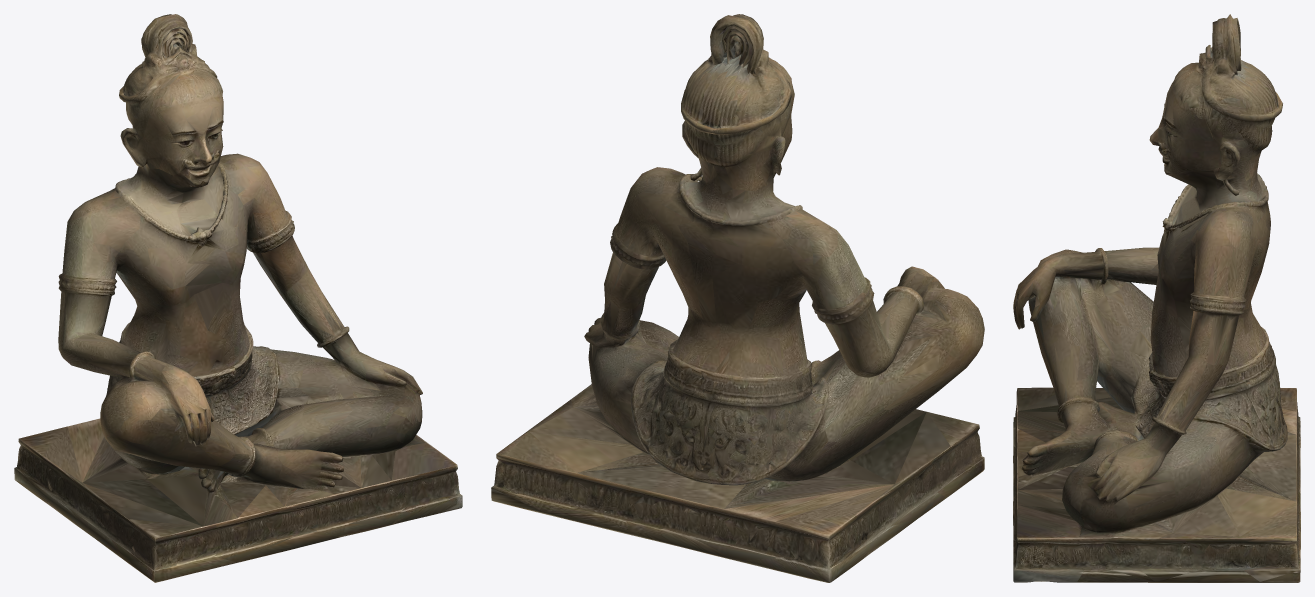
The picture shows the model from 3 angles, left to right: view 1: azimuth 30°, elevation 25°; view 2: azimuth 150°, elevation 25°; view 3: azimuth 270°, elevation 25°; orthographic projection. The views are drawn at different scales.
Visible parts, largest first — view 1: statue-003; view 2: statue-003; view 3: statue-003.
Boxes of the visible parts, <box> form: statue-003: <box>14,14,462,582</box>; statue-003: <box>491,14,984,582</box>; statue-003: <box>1013,14,1300,582</box>.
Size of the model in its own units: 0.7597 by 1 by 0.5544.
Materials: 1 (1 with a texture image).
